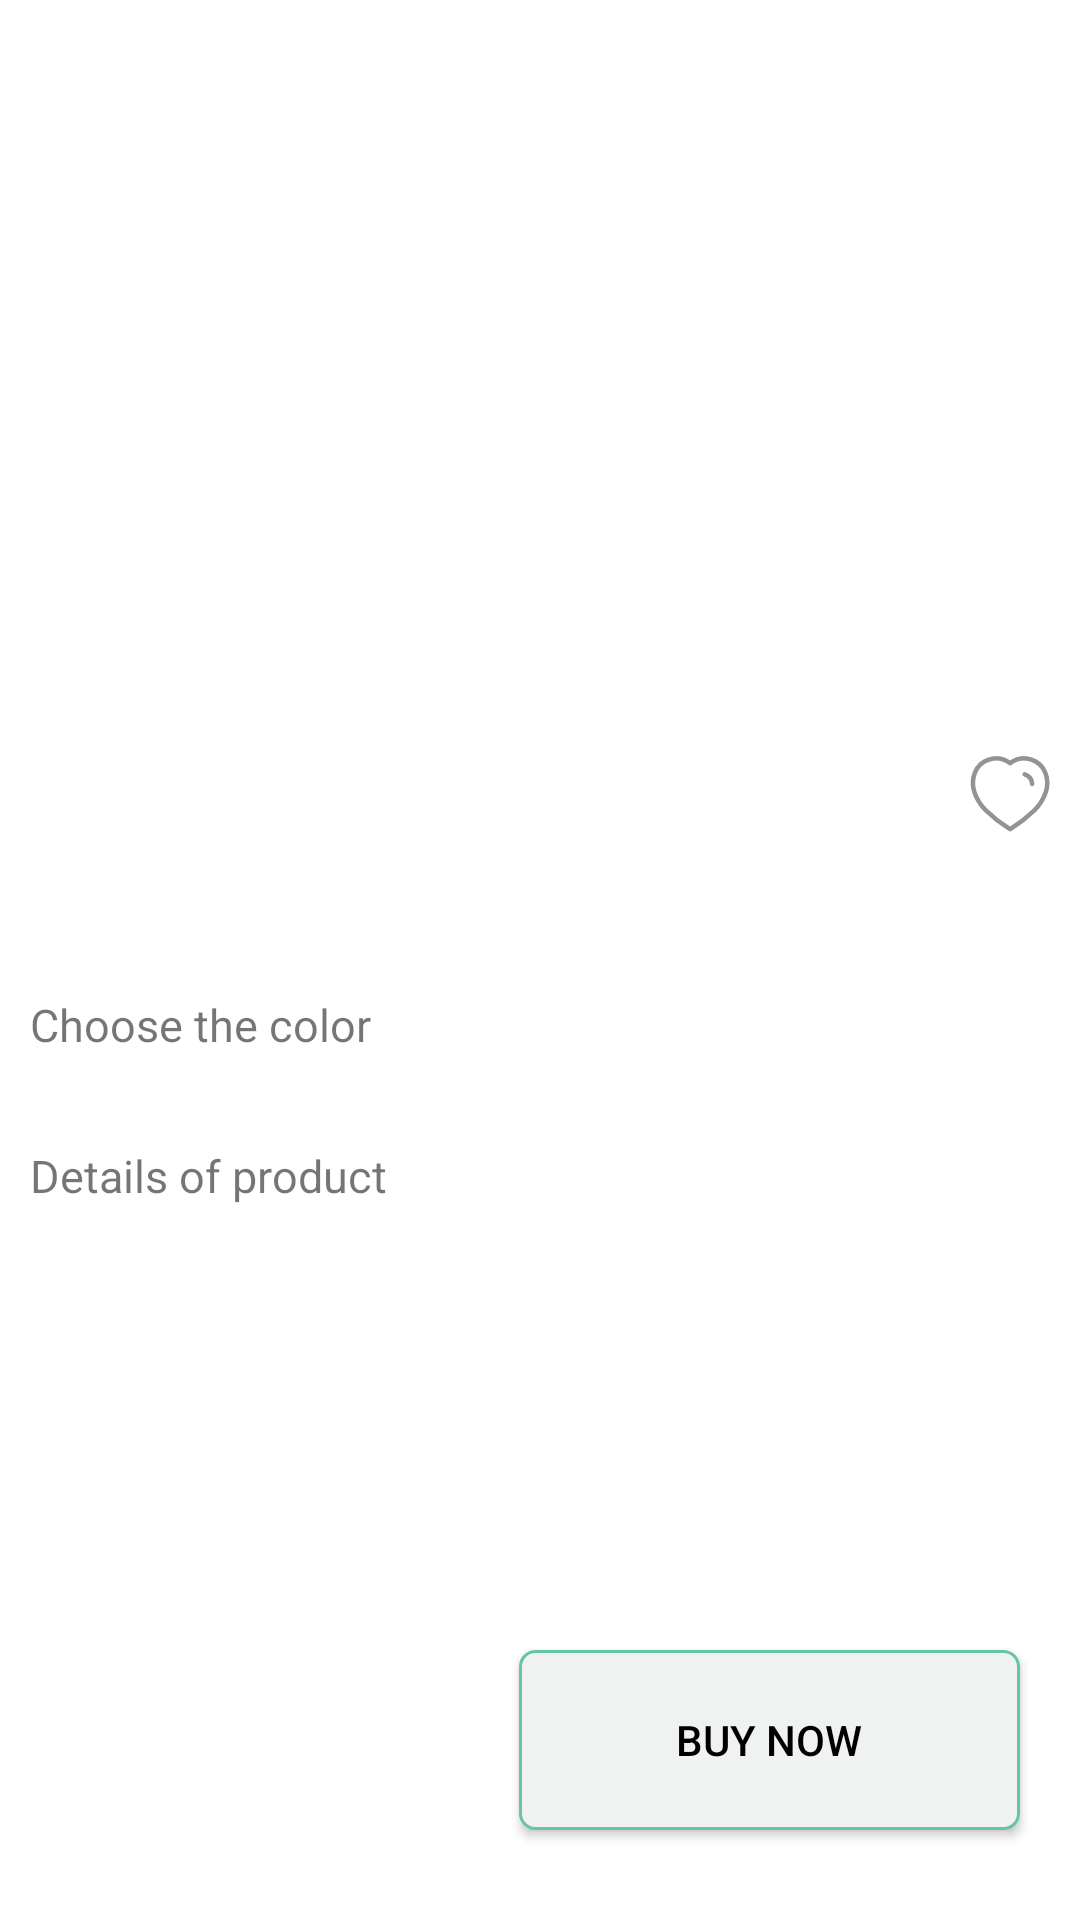

Icons on this 1080×1920 Android screen, each with its box as {"left": x1, "top": y1, "right": x2, "bottom": y2}:
heart: {"left": 970, "top": 756, "right": 1050, "bottom": 832}
